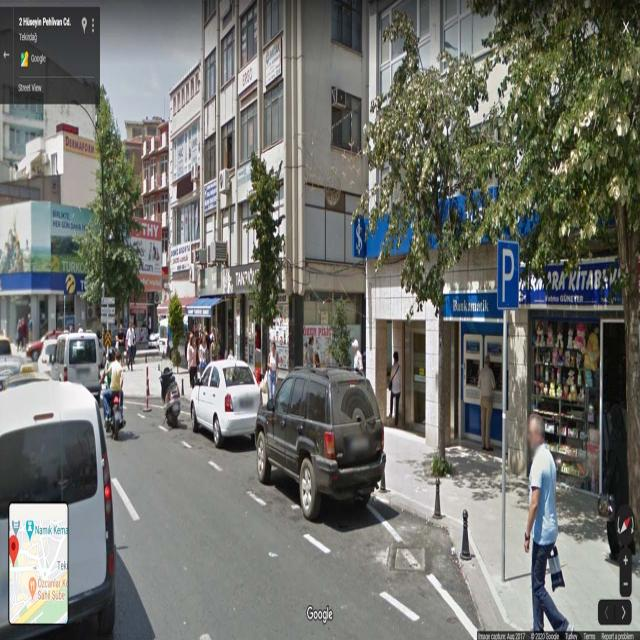park: (498, 242, 518, 306)
